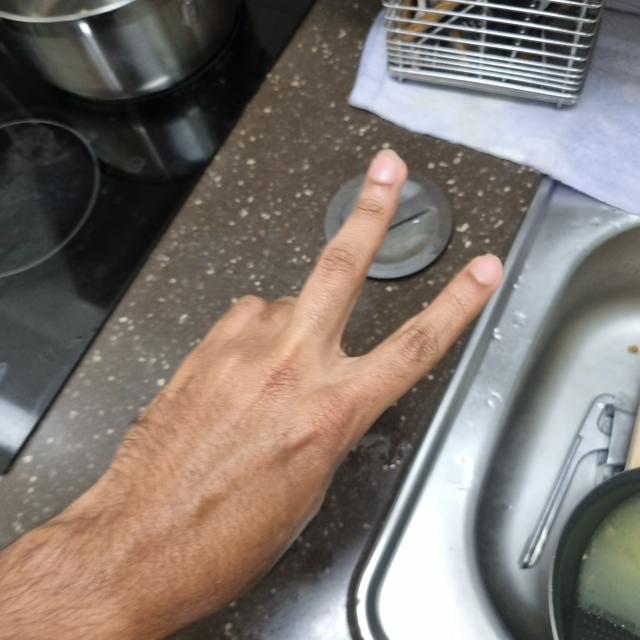Scissors: (96, 160, 502, 623)
